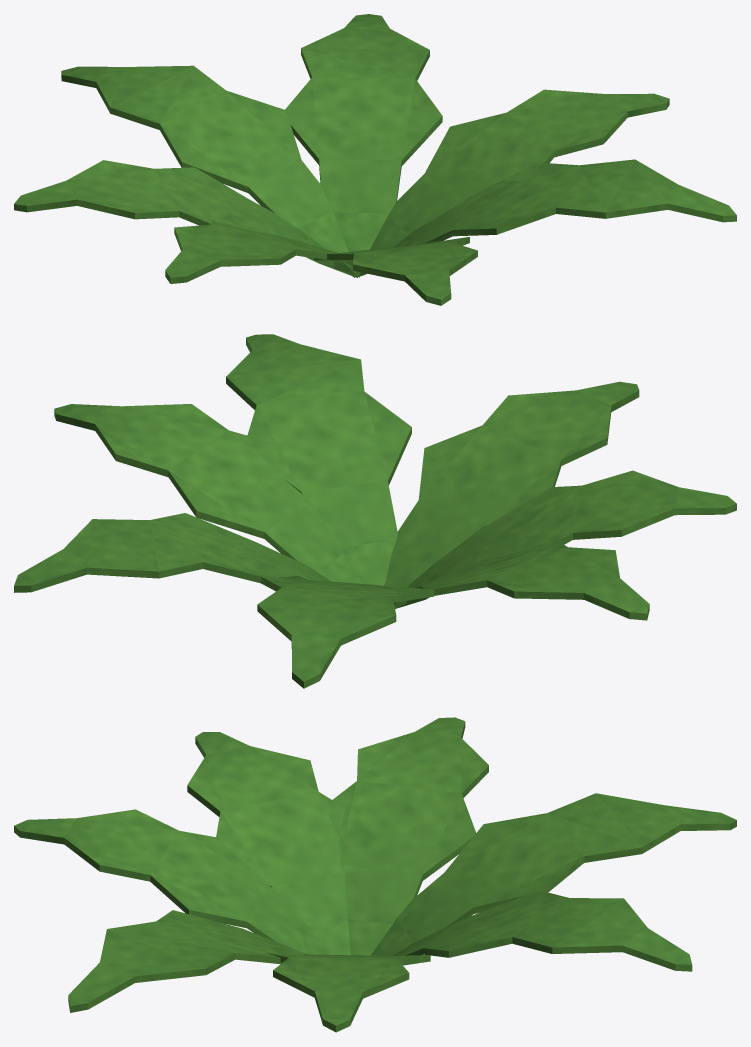
Rendered from SM_Fern01.fbx.
3 views of the same model, one above another, from view 1: azimuth 30°, elevation 25°; view 2: azimuth 150°, elevation 25°; view 3: azimuth 270°, elevation 25° (orthographic). The views are drawn at different scales.
Parts seen in each view (by area): view 1: SM_Fern01; view 2: SM_Fern01; view 3: SM_Fern01.
Boxes of the visible parts, x1,y1,x2,y2 form: SM_Fern01: (14,14,736,305); SM_Fern01: (14,334,736,688); SM_Fern01: (14,717,736,1032).
Size of the model in its own units: 3.98 by 0.7431 by 3.94.
1 material, 1 textured.
